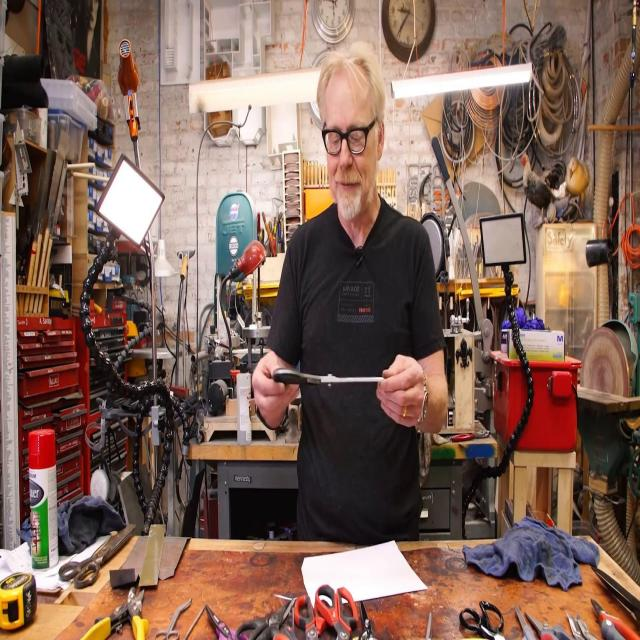scissor: (59, 524, 137, 589), (234, 597, 294, 640), (591, 566, 640, 617), (316, 584, 358, 640), (272, 368, 384, 388), (589, 598, 640, 640), (460, 600, 504, 640), (295, 595, 331, 640), (205, 604, 248, 640), (524, 611, 568, 640), (352, 601, 377, 640), (274, 604, 296, 640), (515, 604, 536, 640)
